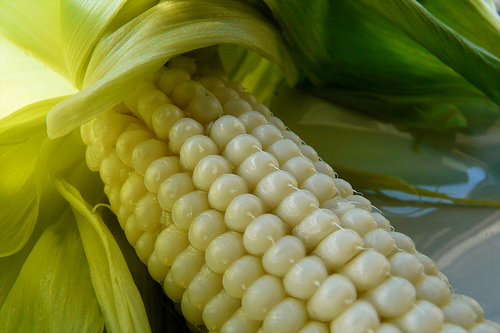corn: (76, 52, 499, 332)
